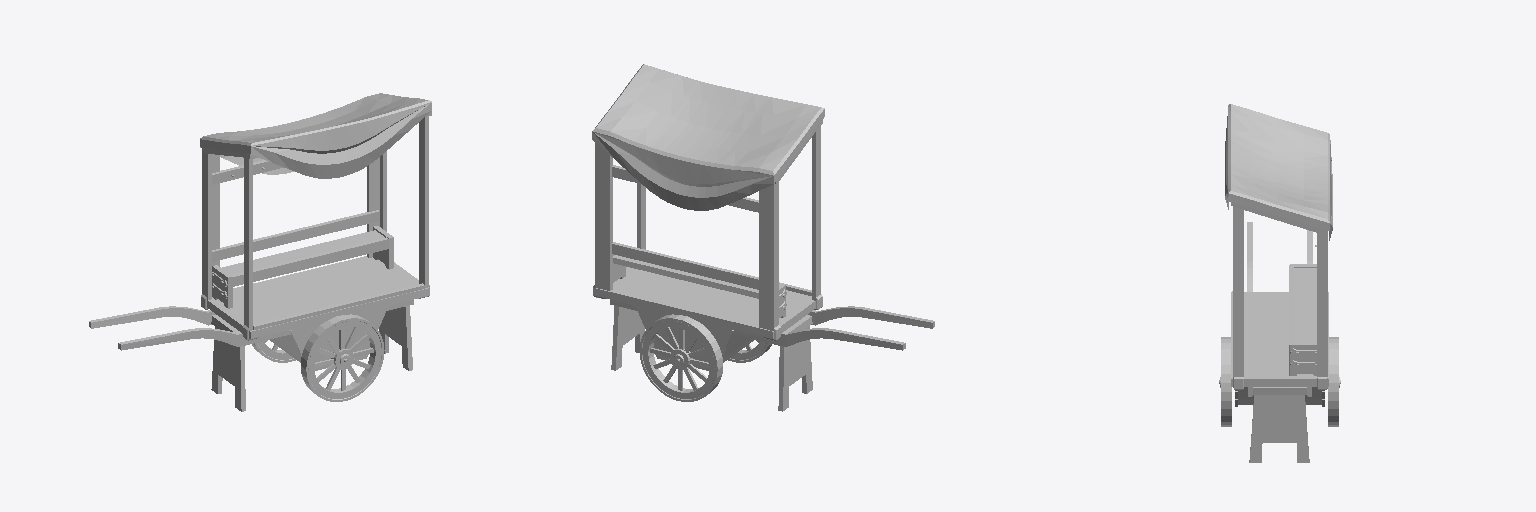
The model's file is Stall_Cart_Empty.obj.
3 views of the same model, side by side, from view 1: azimuth 30°, elevation 25°; view 2: azimuth 150°, elevation 25°; view 3: azimuth 270°, elevation 25° (orthographic).
Parts seen in each view (by area): view 1: Stall_Cart_Empty_Cylinder.094; view 2: Stall_Cart_Empty_Cylinder.094; view 3: Stall_Cart_Empty_Cylinder.094.
Part boxes in pixels (x1,y1,x2,y2): Stall_Cart_Empty_Cylinder.094: (89,93,431,411); Stall_Cart_Empty_Cylinder.094: (592,64,934,411); Stall_Cart_Empty_Cylinder.094: (1219,104,1340,462).
Size of the model in its own units: 3.02 by 2.63 by 1.06.